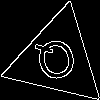Q: (31, 34, 82, 92)
